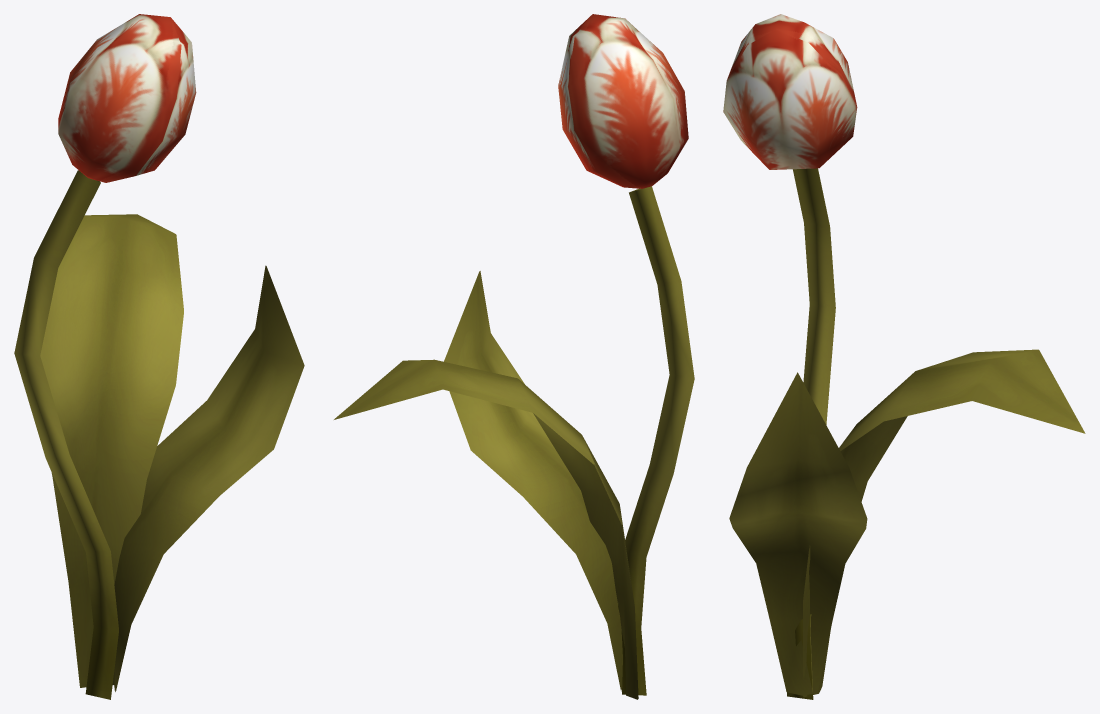
The model's file is Flower_12_02.fbx.
The picture shows the model from 3 angles, left to right: view 1: azimuth 30°, elevation 25°; view 2: azimuth 150°, elevation 25°; view 3: azimuth 270°, elevation 25°; orthographic projection. The views are drawn at different scales.
Parts seen in each view (by area): view 1: Flower_12_02; view 2: Flower_12_02; view 3: Flower_12_02.
Part boxes in pixels (bbox=[...]): Flower_12_02: bbox=[14, 14, 304, 699]; Flower_12_02: bbox=[334, 14, 694, 699]; Flower_12_02: bbox=[723, 14, 1085, 699].
Size of the model in its own units: 30.3 by 36.74 by 77.75.
